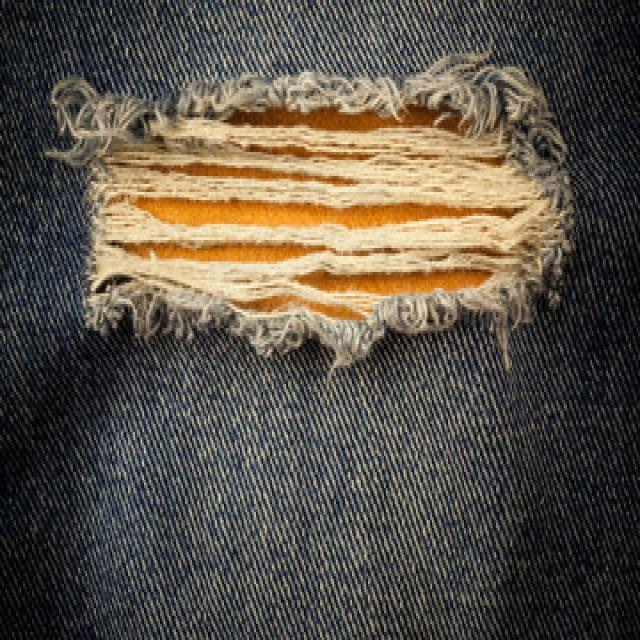Hole: (73, 54, 574, 366)
